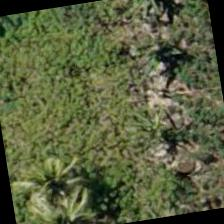Kelapa_Sawit: (5, 139, 108, 223)
